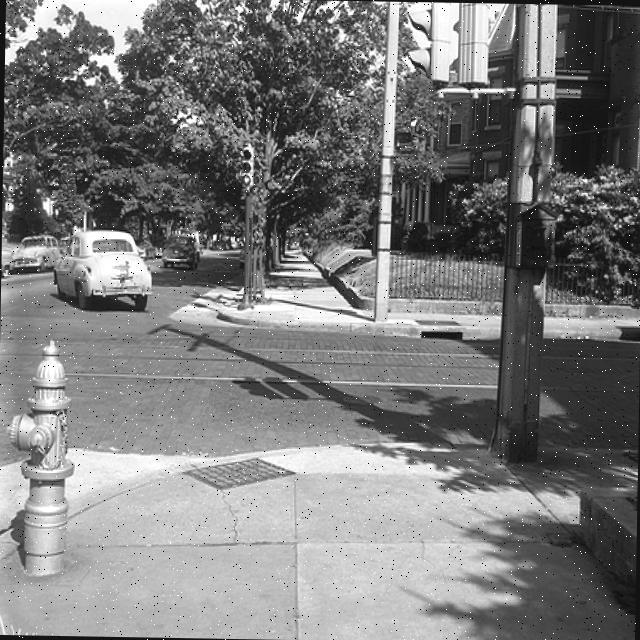fire_hydrant: (1, 339, 76, 575)
